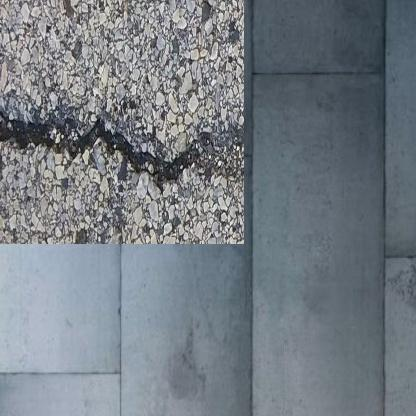Cracks: (0, 96, 225, 173)
